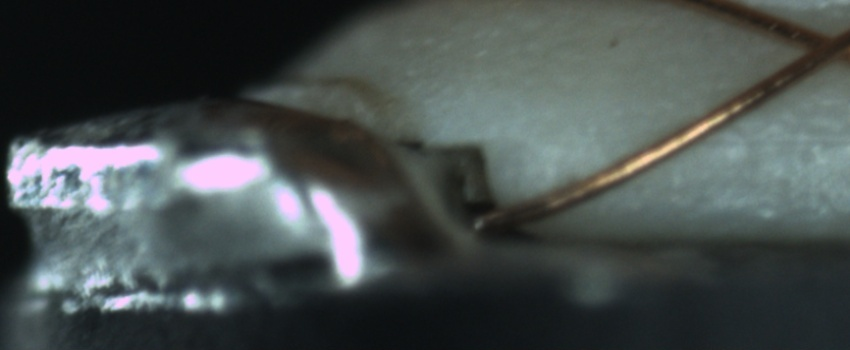CL: (777, 12, 849, 78)
DL: (682, 110, 850, 174)
